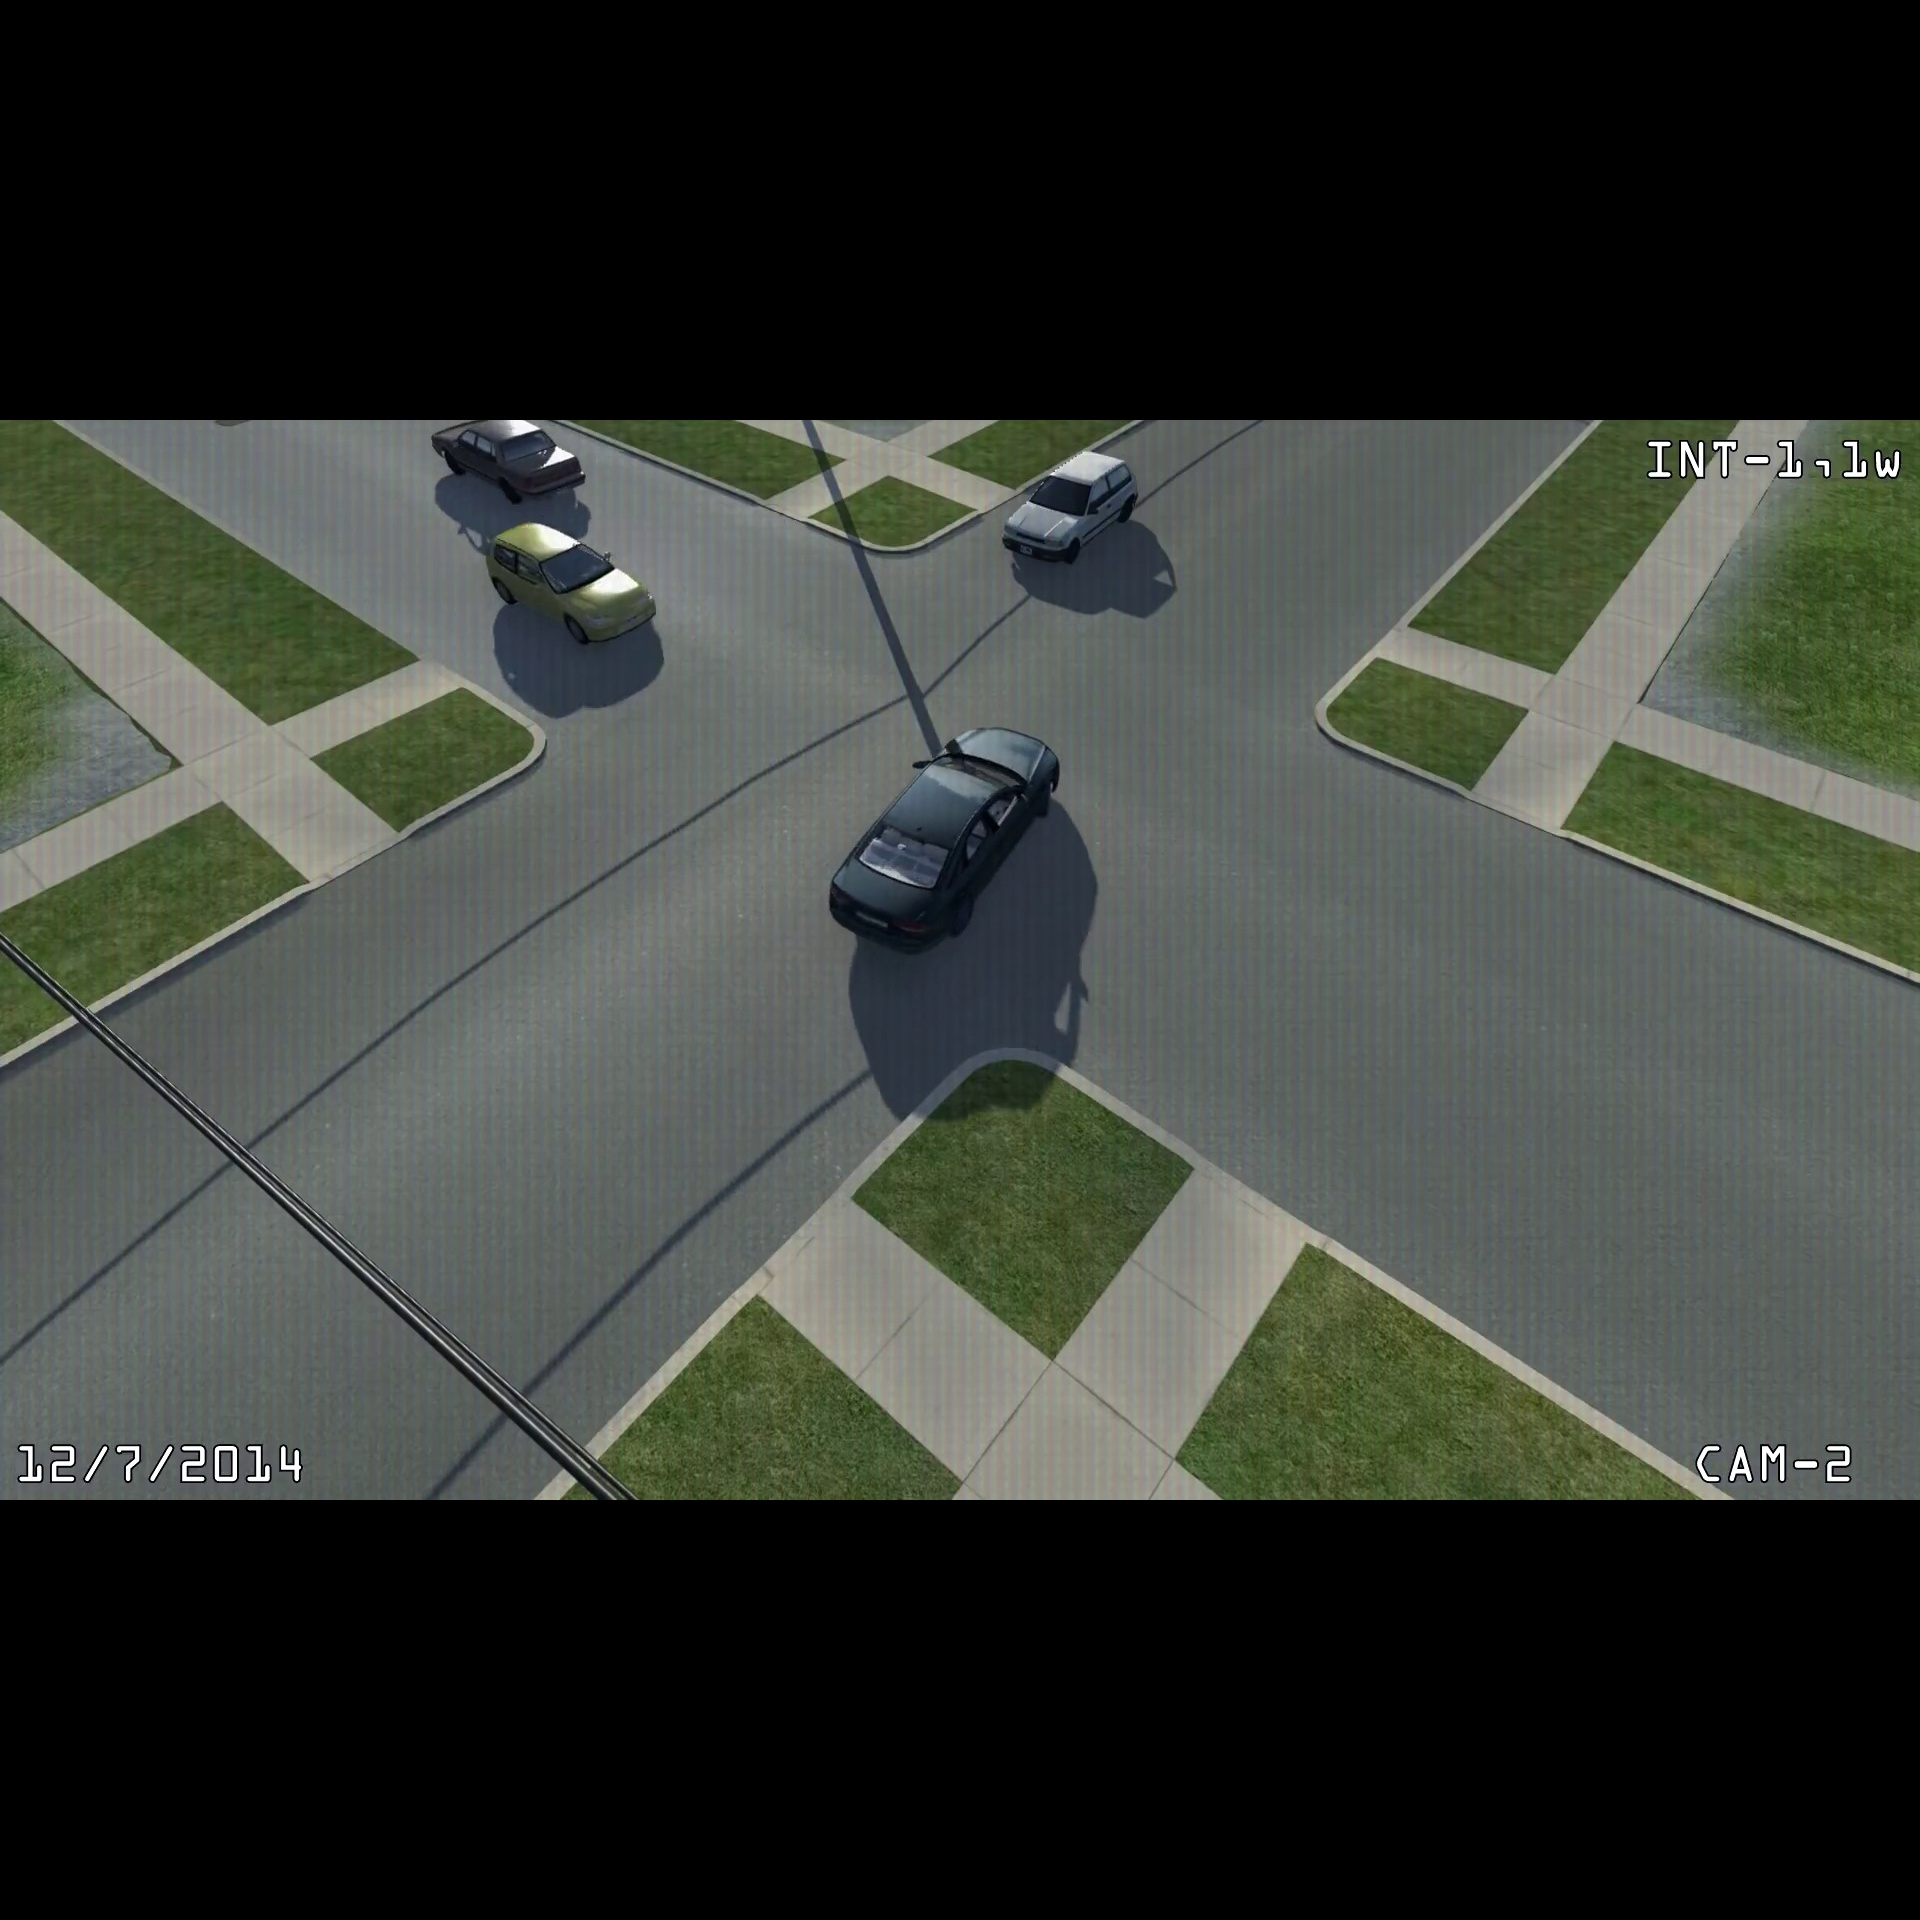vehicle: (816, 719, 1069, 965), (478, 512, 666, 654), (995, 448, 1145, 573), (418, 417, 589, 510)
